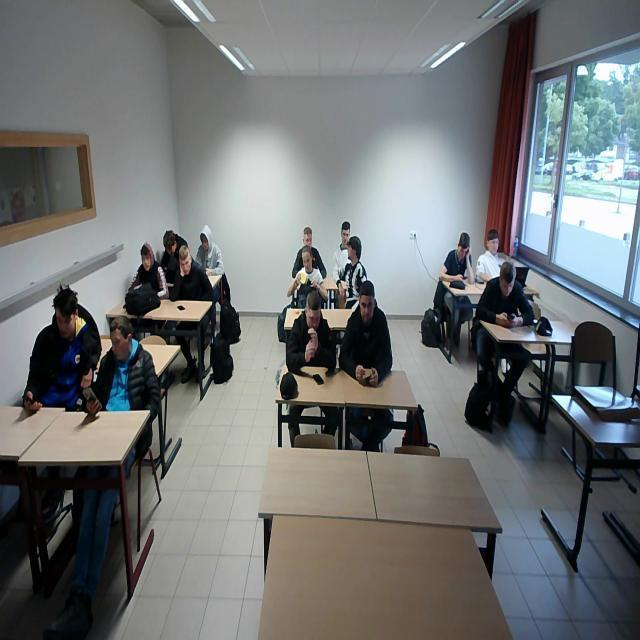Looking away: (347, 236, 362, 262), (301, 252, 315, 274), (488, 240, 499, 254)
Looking forward: (306, 308, 322, 334), (180, 260, 192, 278), (140, 256, 152, 271)
Phone use: (16, 282, 100, 436), (80, 316, 162, 440), (341, 282, 403, 403), (474, 260, 536, 332), (436, 230, 476, 288), (156, 222, 186, 276)
